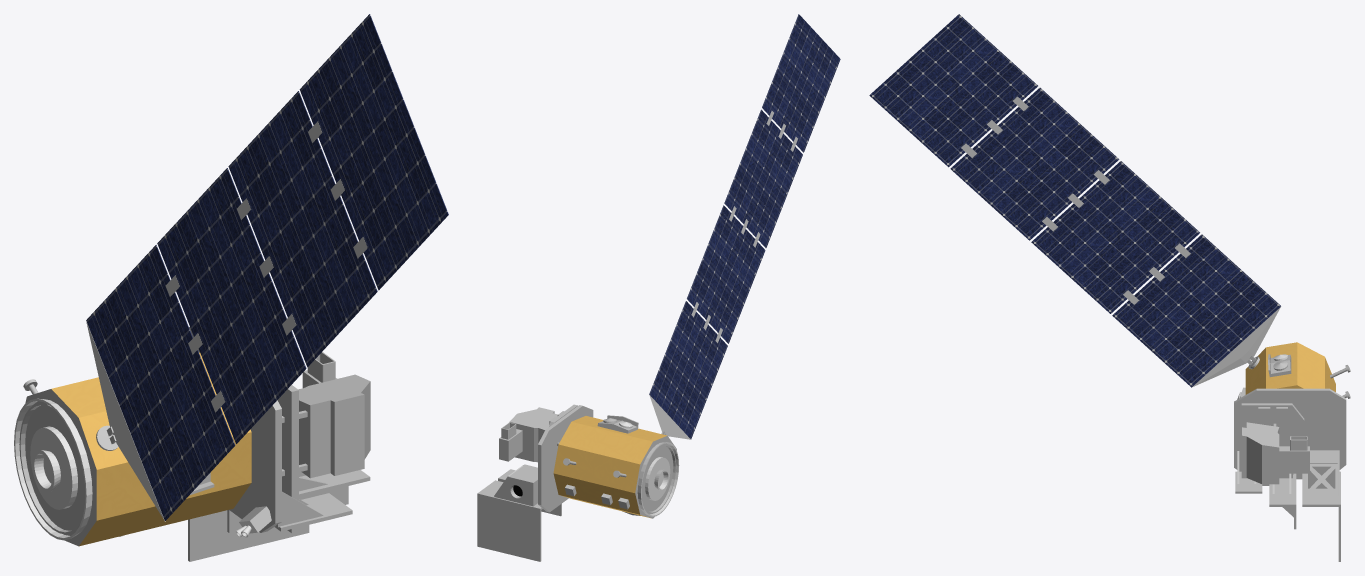
Rendered from landsat.glb.
3 views of the same model, side by side, from view 1: azimuth 30°, elevation 25°; view 2: azimuth 150°, elevation 25°; view 3: azimuth 270°, elevation 25° (orthographic). The views are drawn at different scales.
Visible parts, largest first — view 1: Cube.009, Cylinder, Cube.017, Cube, Cube.005, Cylinder.011, Cylinder.009, Cube.007, Cube.020, Cube.039, Cube.001, Cylinder.008 (+6 smaller); view 2: Cube.009, Cylinder, Cube.005, Cube, Cube.017, Cube.016, Cylinder.011, Cylinder.009, Cube.007, Cube.018, Cube.039; view 3: Cube.009, Cube, Cylinder, Cube.017, Cube.020, Cube.007, Cube.039, Cube.016, Cube.018, Cube.008, Cube.002.
Part boxes in pixels (<box>): Cube.009: <box>86,14,448,520</box>; Cylinder: <box>25,352,251,546</box>; Cube.017: <box>298,374,370,478</box>; Cube: <box>189,327,281,532</box>; Cube.005: <box>188,510,309,561</box>; Cylinder.011: <box>30,426,77,509</box>; Cylinder.009: <box>14,398,92,540</box>; Cube.007: <box>86,321,165,521</box>; Cube.020: <box>277,385,298,533</box>; Cube.039: <box>165,121,367,412</box>; Cube.001: <box>275,493,352,531</box>; Cylinder.008: <box>19,403,84,534</box>; Cube.009: <box>649,14,840,439</box>; Cylinder: <box>553,416,676,518</box>; Cube.005: <box>477,493,541,561</box>; Cube: <box>538,405,593,512</box>; Cube.017: <box>509,407,557,462</box>; Cube.016: <box>494,464,537,506</box>; Cylinder.011: <box>645,457,670,500</box>; Cylinder.009: <box>637,442,679,516</box>; Cube.007: <box>649,395,690,439</box>; Cube.018: <box>499,429,522,461</box>; Cube.039: <box>691,110,797,342</box>; Cube.009: <box>869,14,1280,387</box>; Cube: <box>1234,388,1346,479</box>; Cylinder: <box>1245,342,1335,394</box>; Cube.017: <box>1242,422,1279,484</box>; Cube.020: <box>1241,403,1304,485</box>; Cube.007: <box>1191,307,1280,387</box>; Cube.039: <box>961,96,1190,304</box>; Cube.016: <box>1303,450,1339,496</box>; Cube.018: <box>1279,446,1309,473</box>; Cube.008: <box>1305,464,1337,496</box>; Cube.002: <box>1269,473,1296,506</box>.
Size of the model in its own units: 0.8848 by 2.27 by 2.1.
Materials: 5 (2 with a texture image).
